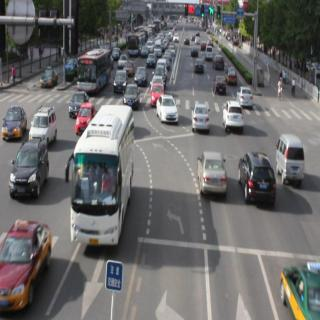BigCar: (77, 115, 136, 258), (81, 54, 106, 94)
Car: (2, 208, 48, 302), (280, 249, 320, 320), (236, 147, 275, 214), (270, 128, 308, 195), (13, 137, 50, 202), (196, 148, 223, 208), (0, 92, 28, 145), (31, 107, 58, 151), (156, 92, 177, 130), (234, 77, 256, 113), (220, 96, 240, 135), (124, 82, 144, 121), (74, 100, 96, 132), (193, 101, 211, 139), (64, 82, 82, 119), (42, 59, 60, 90), (210, 46, 228, 74), (211, 77, 230, 101), (224, 64, 241, 90), (150, 76, 164, 102), (146, 46, 159, 72), (111, 69, 125, 93), (196, 57, 210, 79), (135, 62, 146, 89), (118, 50, 129, 70), (190, 42, 200, 61), (183, 33, 193, 51)
